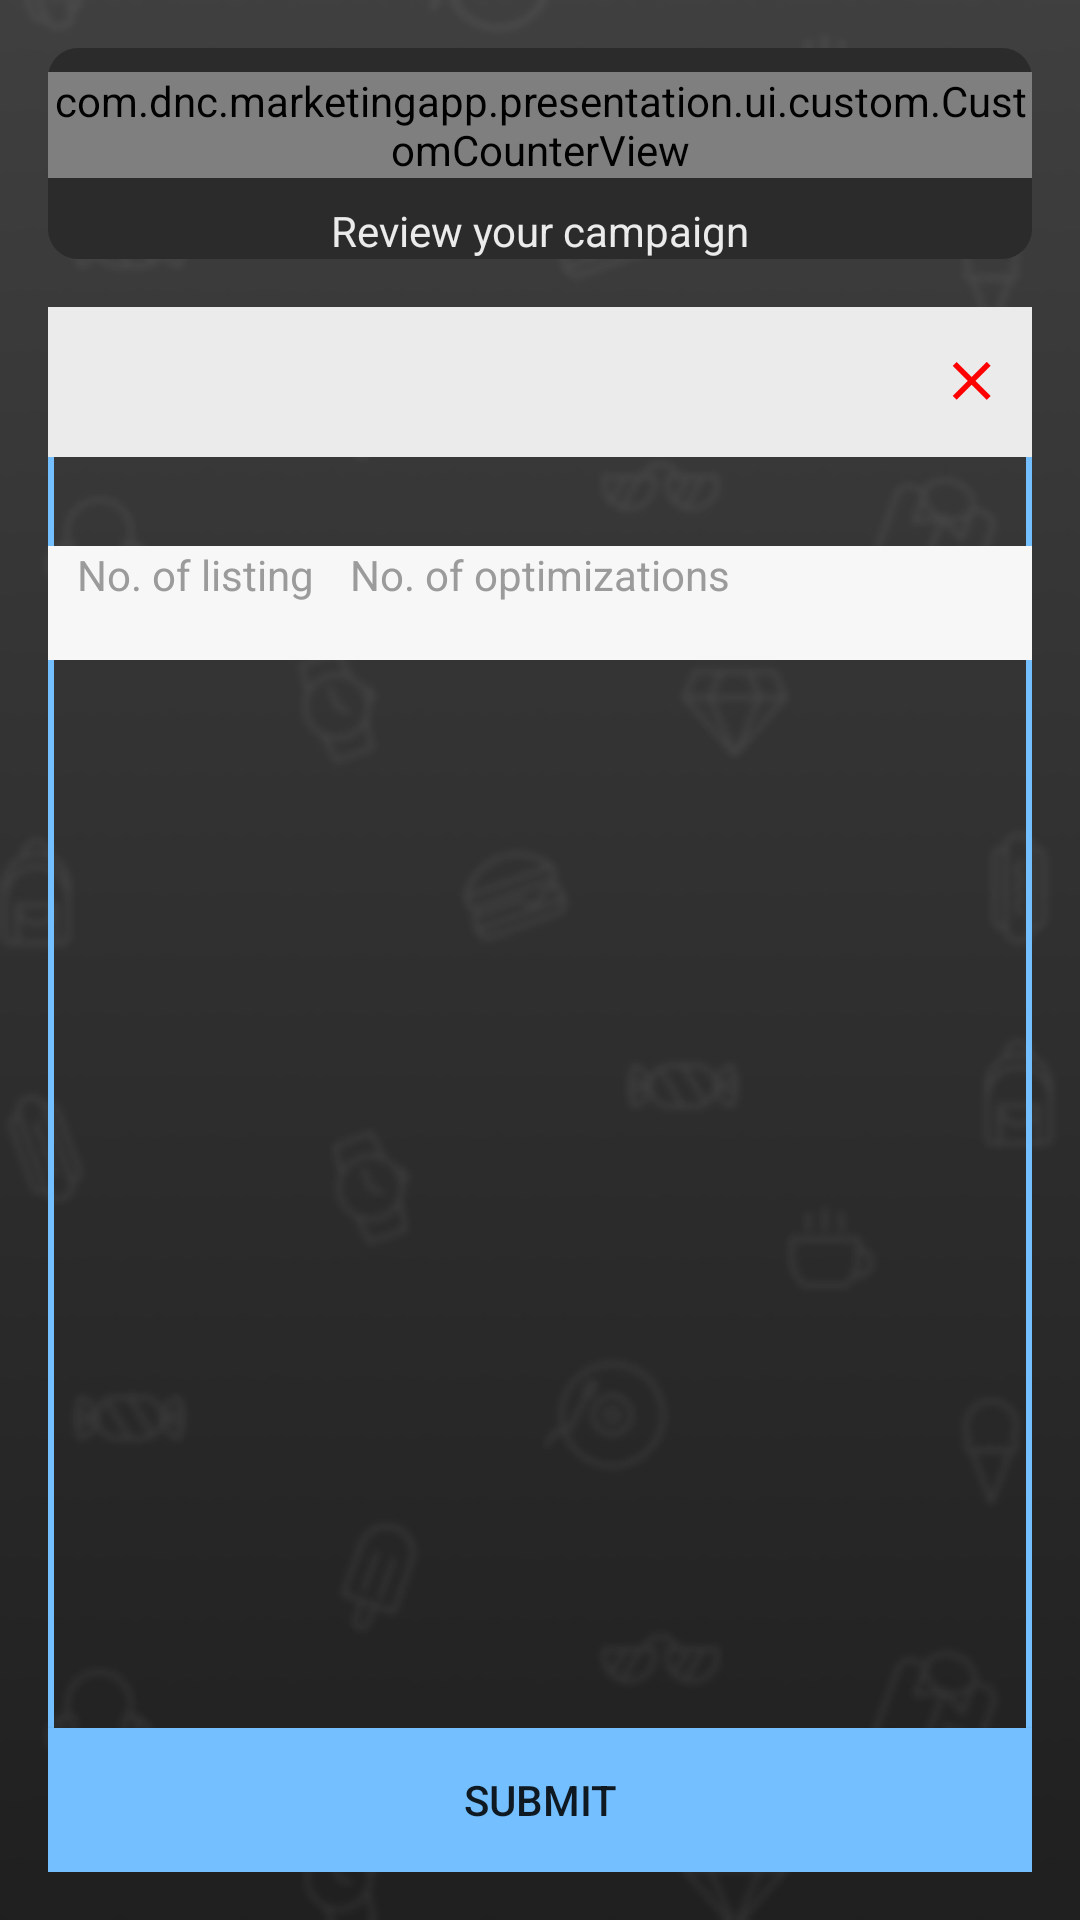

Icons on this 1080px×1920px Android screen, each with its box as box=[x1, y1, x2, y2]:
close: box=[953, 362, 991, 400]
